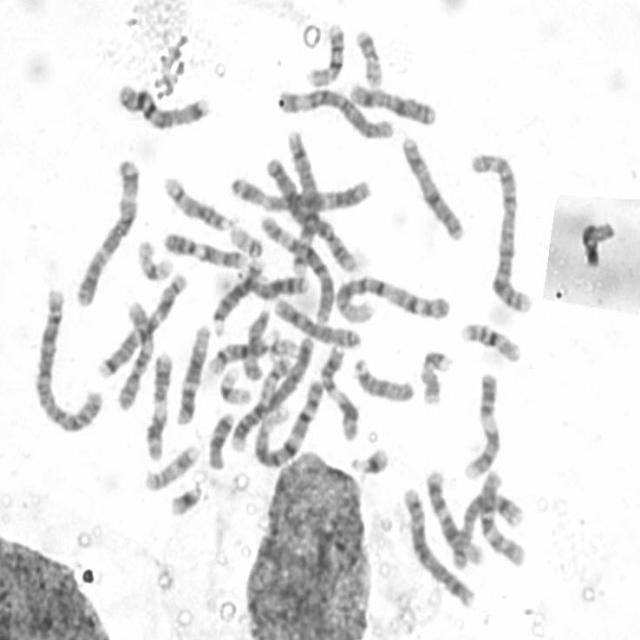A1: (249, 372, 326, 469), (328, 268, 452, 325)
A2: (27, 281, 105, 434), (466, 144, 534, 315)
A3: (69, 149, 143, 308), (225, 168, 373, 214)
B4: (259, 147, 360, 274), (224, 329, 316, 454)
B5: (397, 478, 476, 609), (282, 125, 321, 273)
C10: (474, 463, 528, 568), (113, 293, 154, 411)
C11: (316, 339, 360, 441), (139, 345, 174, 463)
C12: (421, 462, 486, 567), (170, 318, 212, 426)
C6: (255, 208, 336, 326), (273, 80, 396, 141)
C7: (93, 265, 188, 379), (112, 76, 211, 131)
C8: (448, 490, 526, 572), (269, 291, 362, 349)
C9: (459, 364, 502, 482), (159, 225, 249, 270)
D13: (206, 252, 266, 338), (232, 263, 310, 300)
D14: (158, 169, 236, 232), (203, 332, 270, 377)
D15: (349, 352, 416, 404), (238, 300, 272, 383)
E16: (300, 15, 348, 89), (454, 315, 523, 364)
E17: (139, 437, 200, 492), (414, 343, 454, 406)
E18: (574, 213, 618, 268), (202, 405, 236, 471)
F19: (132, 232, 175, 282), (213, 361, 254, 406)
F20: (350, 21, 384, 88), (257, 354, 292, 410)
G21: (163, 475, 204, 518), (344, 440, 391, 476)
G22: (223, 218, 264, 258), (263, 332, 299, 361)
X: (396, 127, 468, 243), (343, 75, 438, 127)
